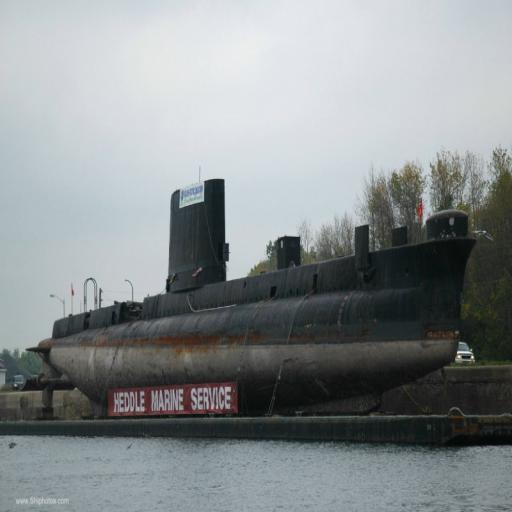submarine: (27, 178, 477, 402)
